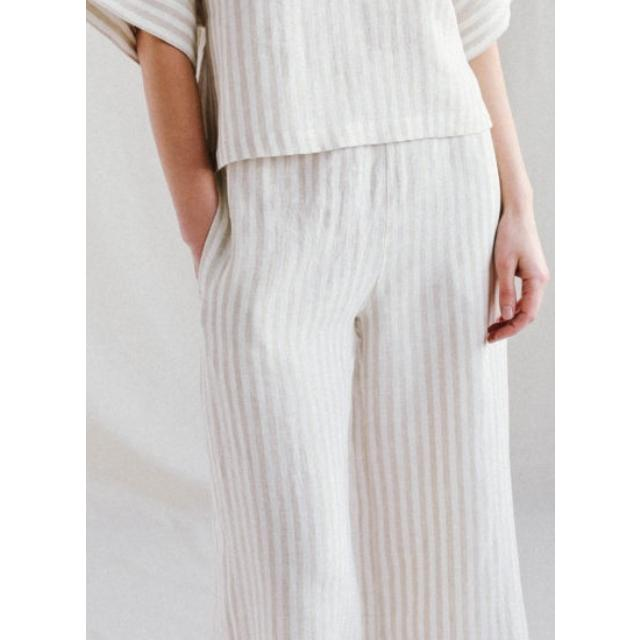linen: (168, 0, 524, 640)
